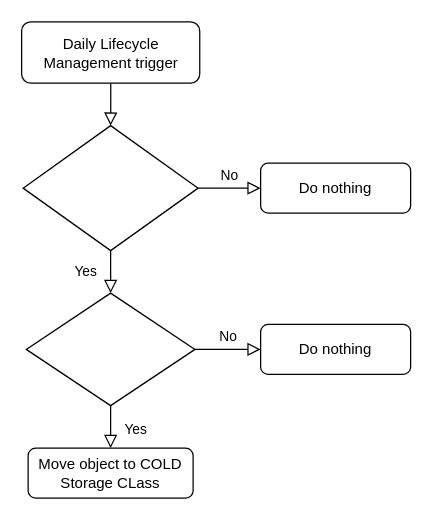
Image size: 434x520. Some labels were removed from this diagram. The shapes that lost their labels are listed below. From the top down, each one's centre as x and y in pixels, then its label:
At (110,187): "Does Bucket have Lifecycle Policy?".
At (110,349): "Any object older than Transition Policy?".
